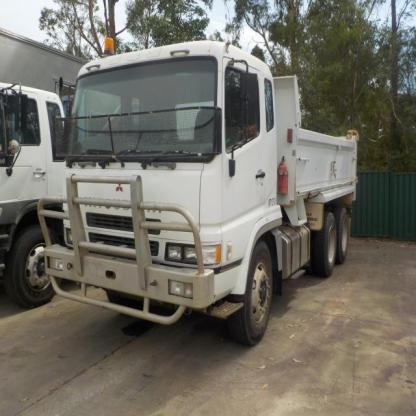truck: (37, 37, 360, 347)
